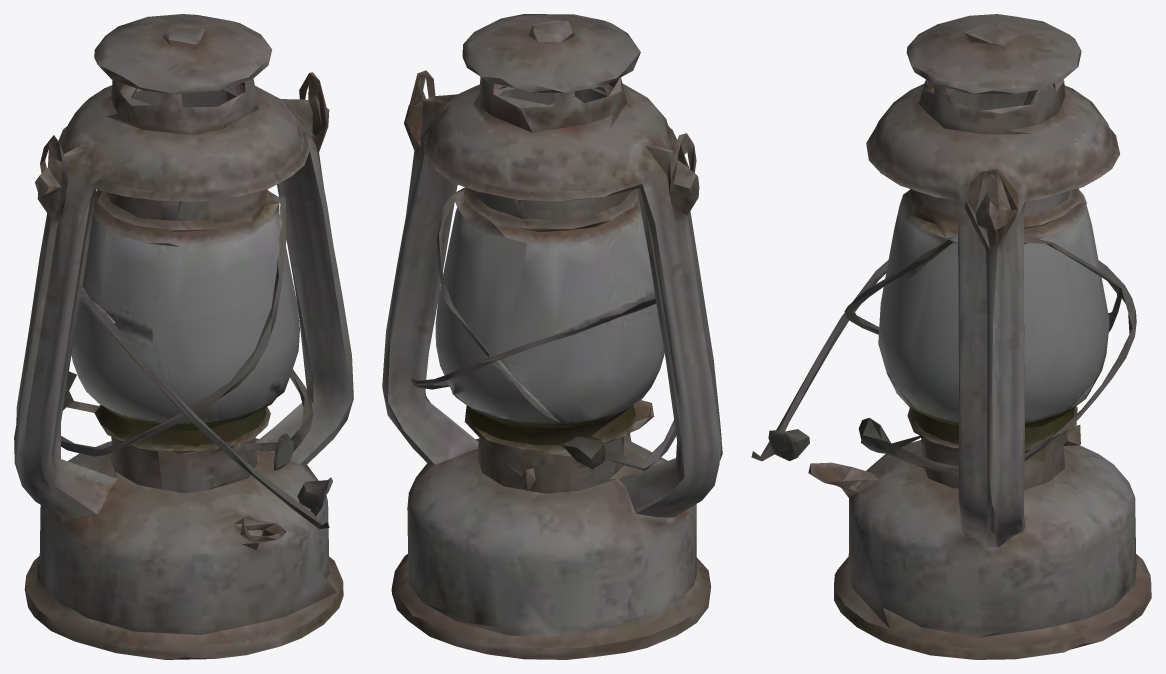
Rendered from lantern.glb.
3 views of the same model, side by side, from view 1: azimuth 30°, elevation 25°; view 2: azimuth 150°, elevation 25°; view 3: azimuth 270°, elevation 25° (orthographic).
Visible parts, largest first — view 1: lantern; view 2: lantern; view 3: lantern.
Part boxes in pixels (box(x1,y1,x2,y2)): lantern: box(14, 14, 353, 659); lantern: box(382, 14, 722, 659); lantern: box(751, 14, 1151, 659).
Size of the model in its own units: 0.2182 by 0.35 by 0.2252.
Materials: 1 (1 with a texture image).
